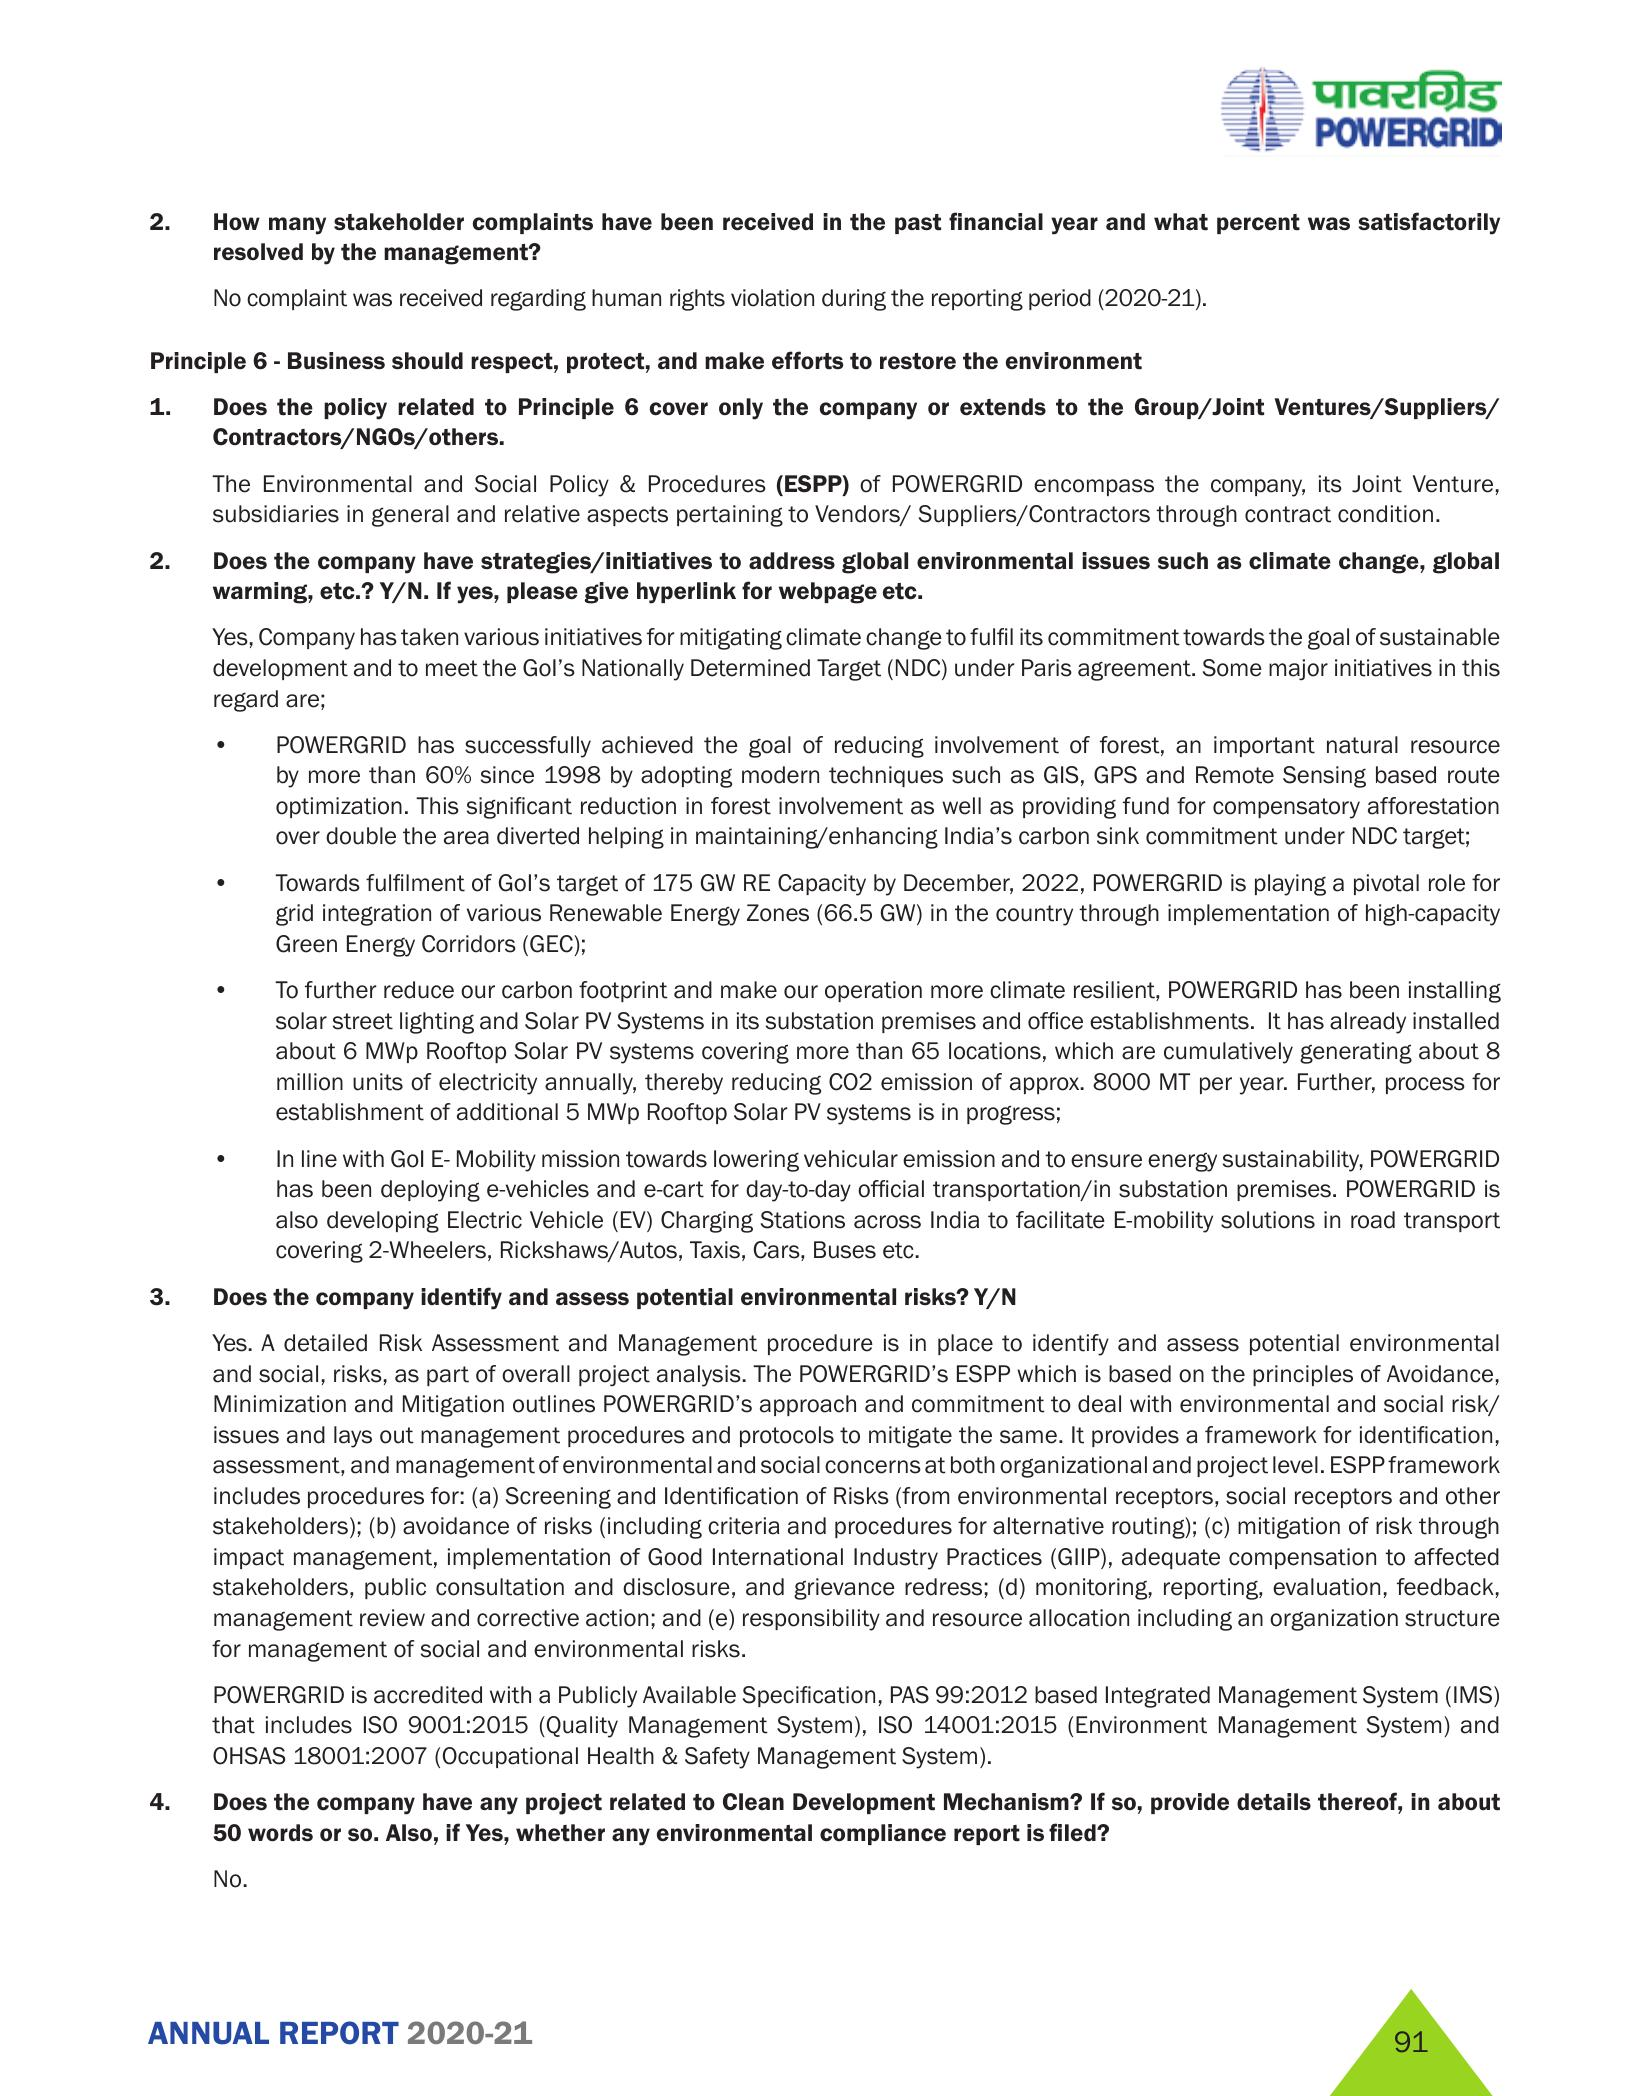Footer: (0, 1965, 1650, 2096)
Header: (0, 0, 1650, 184)
